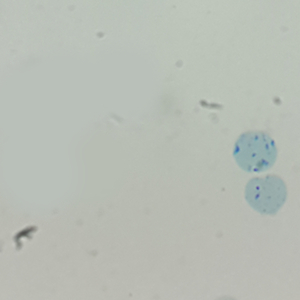aggregate reticulocyte: (232, 129, 279, 174)
punctate reticulocyte: (242, 174, 289, 216)
